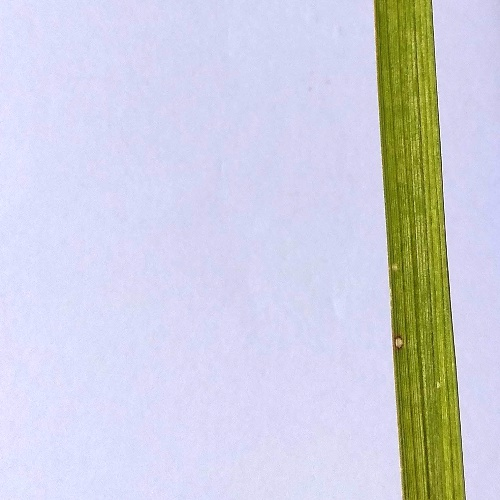Busuk Leher: (382, 253, 405, 276), (389, 331, 411, 353)
